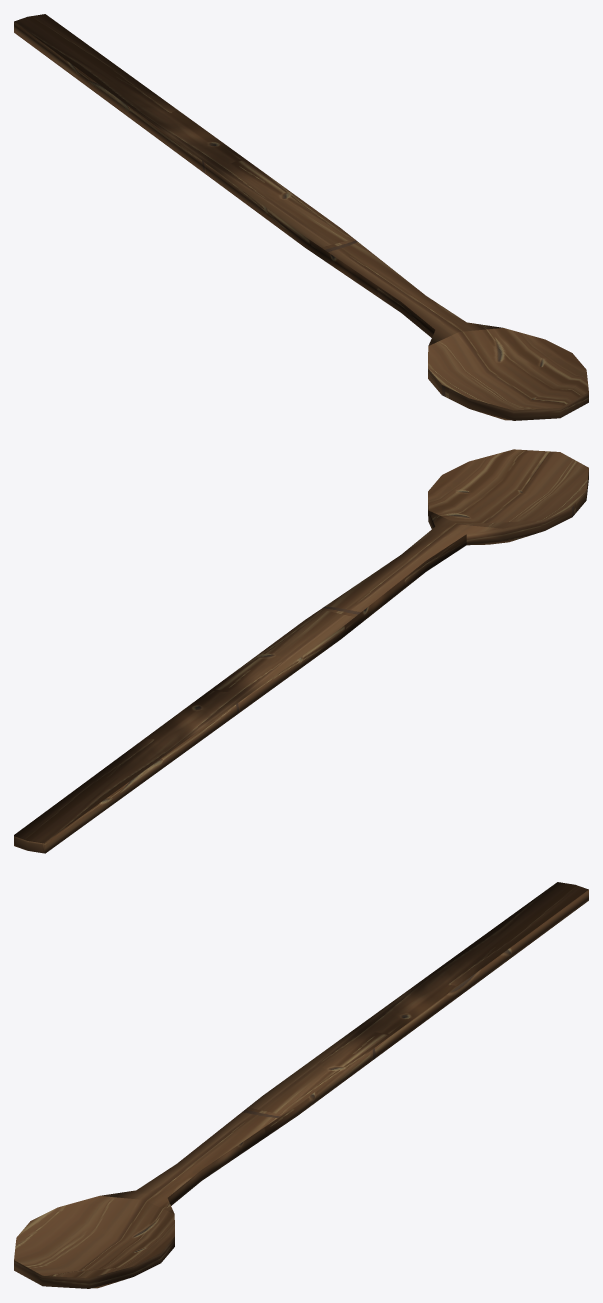
Rendered from SM_Wooden_Spoon.fbx.
3 views of the same model, one above another, from view 1: azimuth 30°, elevation 25°; view 2: azimuth 150°, elevation 25°; view 3: azimuth 330°, elevation 25° (orthographic).
Visible parts, largest first — view 1: SM_Wooden_Spoon; view 2: SM_Wooden_Spoon; view 3: SM_Wooden_Spoon.
Boxes of the visible parts, <box> form: SM_Wooden_Spoon: <box>14,14,588,420</box>; SM_Wooden_Spoon: <box>14,449,588,853</box>; SM_Wooden_Spoon: <box>14,882,588,1288</box>.
Bounding box in the file's own units: 5.77 × 1.62 × 40.84.
